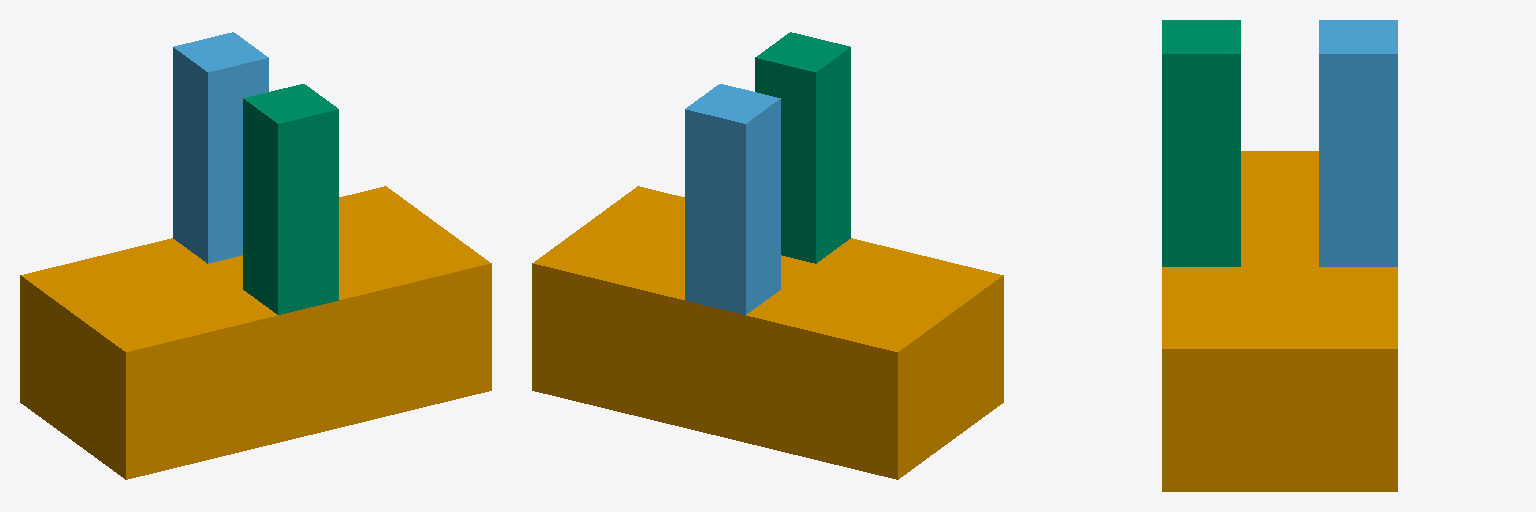
URDF robot description (gripper):
<?xml version="1.0"?>
<robot name="gripper">
  <link name="gripper_base"><inertial><origin xyz="0 0 0"/><mass value="0.3"/><inertia ixx="0.01" ixy="0" ixz="0" iyy="0.01" iyz="0" izz="0.01"/></inertial><visual><origin xyz="0 0 0.02"/><geometry><mesh filename="../meshes/palm.stl"/></geometry></visual><collision><origin xyz="0 0 0.02"/><geometry><mesh filename="../meshes/palm.stl"/></geometry></collision></link>
  <link name="finger_l"><inertial><origin xyz="0 0 0"/><mass value="0.05"/><inertia ixx="0.01" ixy="0" ixz="0" iyy="0.01" iyz="0" izz="0.01"/></inertial><visual><origin xyz="0 0 0.03"/><geometry><mesh filename="../meshes/finger.stl"/></geometry></visual><collision><origin xyz="0 0 0.03"/><geometry><mesh filename="../meshes/finger.stl"/></geometry></collision></link>
  <link name="finger_r"><inertial><origin xyz="0 0 0"/><mass value="0.05"/><inertia ixx="0.01" ixy="0" ixz="0" iyy="0.01" iyz="0" izz="0.01"/></inertial><visual><origin xyz="0 0 0.03"/><geometry><mesh filename="../meshes/finger.stl"/></geometry></visual><collision><origin xyz="0 0 0.03"/><geometry><mesh filename="../meshes/finger.stl"/></geometry></collision></link>
  <joint name="finger_l_joint" type="prismatic"><parent link="gripper_base"/><child link="finger_l"/><origin xyz="0 0.02 0.04"/><axis xyz="0 1 0"/><limit lower="0.0" upper="0.04" effort="100" velocity="2"/></joint>
  <joint name="finger_r_joint" type="prismatic"><parent link="gripper_base"/><child link="finger_r"/><origin xyz="0 -0.02 0.04"/><axis xyz="0 -1 0"/><limit lower="0.0" upper="0.04" effort="100" velocity="2"/><mimic joint="finger_l_joint" multiplier="1" offset="0"/></joint>
</robot>

--- What the picture shows (computed from the rendered views, not written in the file) ---
Views: 3 orthographic renders of the robot side by side, from view 1: azimuth 30°, elevation 25°; view 2: azimuth 150°, elevation 25°; view 3: azimuth 270°, elevation 25°.
Robot: gripper — 3 links, 2 joints (2 prismatic); root link gripper_base; default pose: all joints at 0.
Links seen in each view (by area): view 1: gripper_base, finger_r, finger_l; view 2: gripper_base, finger_l, finger_r; view 3: gripper_base, finger_l, finger_r.
Boxes of the visible links, x1,y1,x2,y2 form: gripper_base: (20,186,491,479); finger_r: (243,84,338,314); finger_l: (173,32,268,263); gripper_base: (532,186,1003,479); finger_l: (685,84,780,314); finger_r: (755,32,850,263); gripper_base: (1162,151,1397,491); finger_l: (1319,20,1397,266); finger_r: (1162,20,1240,266).
Bounding box of the posed robot: 0.12 × 0.06 × 0.1 m (x, y, z).
3 mesh visuals loaded from 2 distinct referenced files (2 binary STL).
